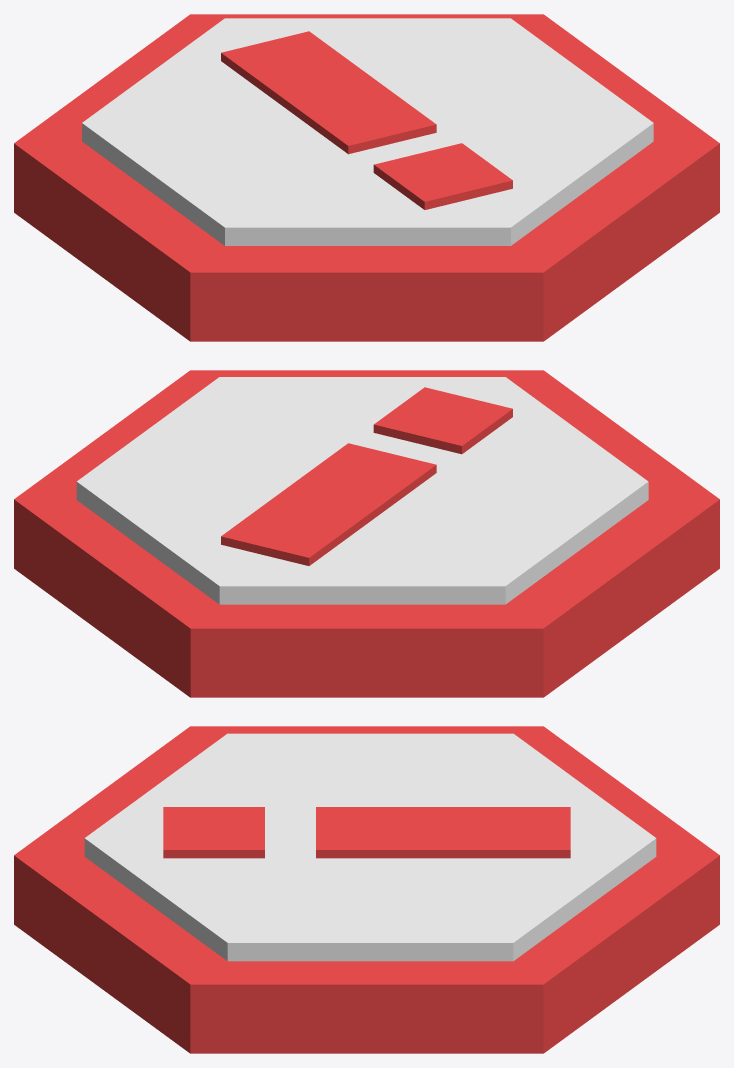
Rendered from Warning.fbx.
3 renders of one model, top to bottom at view 1: azimuth 30°, elevation 25°; view 2: azimuth 150°, elevation 25°; view 3: azimuth 270°, elevation 25°, orthographic.
Parts seen in each view (by area): view 1: mergedBlocks; view 2: mergedBlocks; view 3: mergedBlocks.
Part boxes in pixels (x1,y1,x2,y2): mergedBlocks: [14, 14, 719, 341]; mergedBlocks: [14, 370, 719, 697]; mergedBlocks: [14, 726, 719, 1053].
Size of the model in its own units: 12 by 2.08 by 13.86.
